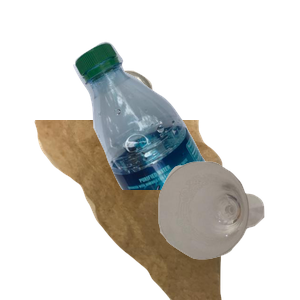glass: (156, 159, 300, 300)
metal: (99, 68, 244, 184)
plastic: (71, 39, 300, 219)
trash: (32, 120, 248, 300)
